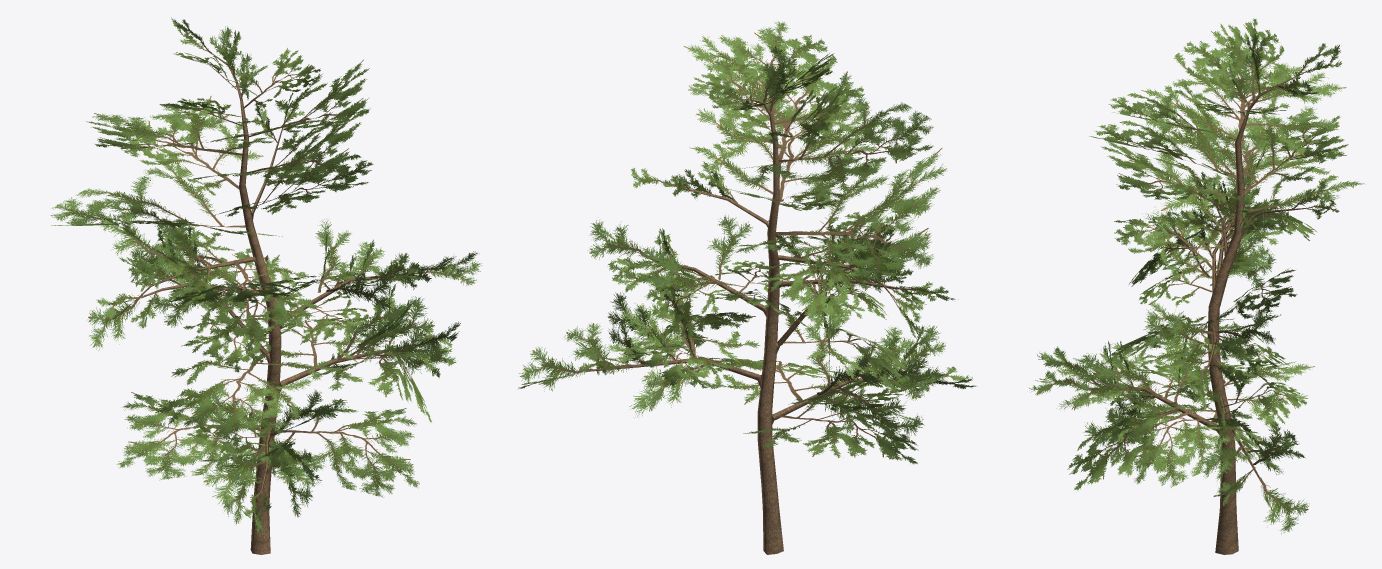
3 views of the same model, side by side, from view 1: azimuth 30°, elevation 25°; view 2: azimuth 150°, elevation 25°; view 3: azimuth 270°, elevation 25° (orthographic).
Parts seen in each view (by area): view 1: Pine_small_2_LOD2_Bark_Mat_0; view 2: Pine_small_2_LOD2_Bark_Mat_0; view 3: Pine_small_2_LOD2_Bark_Mat_0.
Boxes of the visible parts, x1,y1,x2,y2 form: Pine_small_2_LOD2_Bark_Mat_0: (50,17,482,554); Pine_small_2_LOD2_Bark_Mat_0: (518,21,977,554); Pine_small_2_LOD2_Bark_Mat_0: (1029,18,1364,554).
Bounding box in the file's own units: 3.48 × 4.04 × 2.51.
